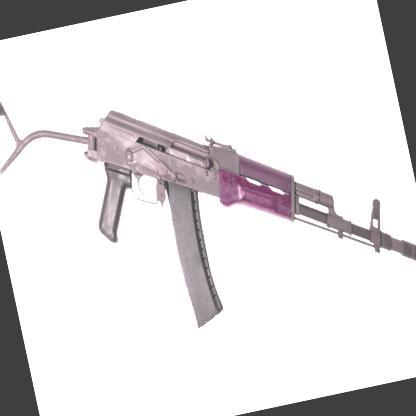rifle: (0, 0, 416, 396)
